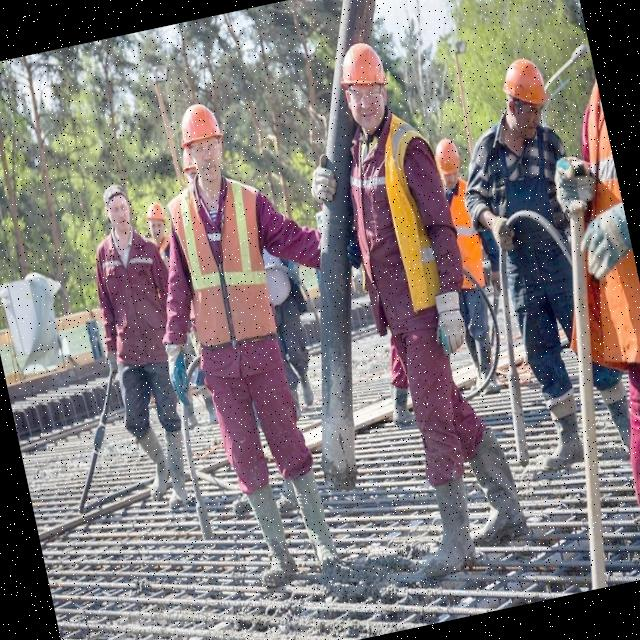Helmet: (335, 41, 391, 101), (498, 55, 552, 115), (176, 102, 227, 156), (432, 137, 465, 180), (101, 184, 133, 222), (144, 201, 166, 227)
Jacket: (542, 97, 640, 358), (340, 108, 444, 325), (170, 166, 277, 352), (443, 179, 487, 294)
NoJacket: (480, 119, 571, 292), (96, 224, 169, 366)
